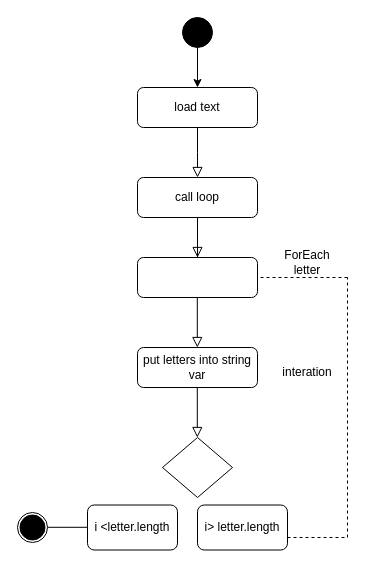
Image size: 366x568. Some labels were removed from this diagram. The shapes that lost their labels are listed below. From the top down, each one's box as (x1, y1, x2, y2) in pixels, then its label:
(136, 256, 258, 298): read letters
(162, 436, 232, 498): beslutning
